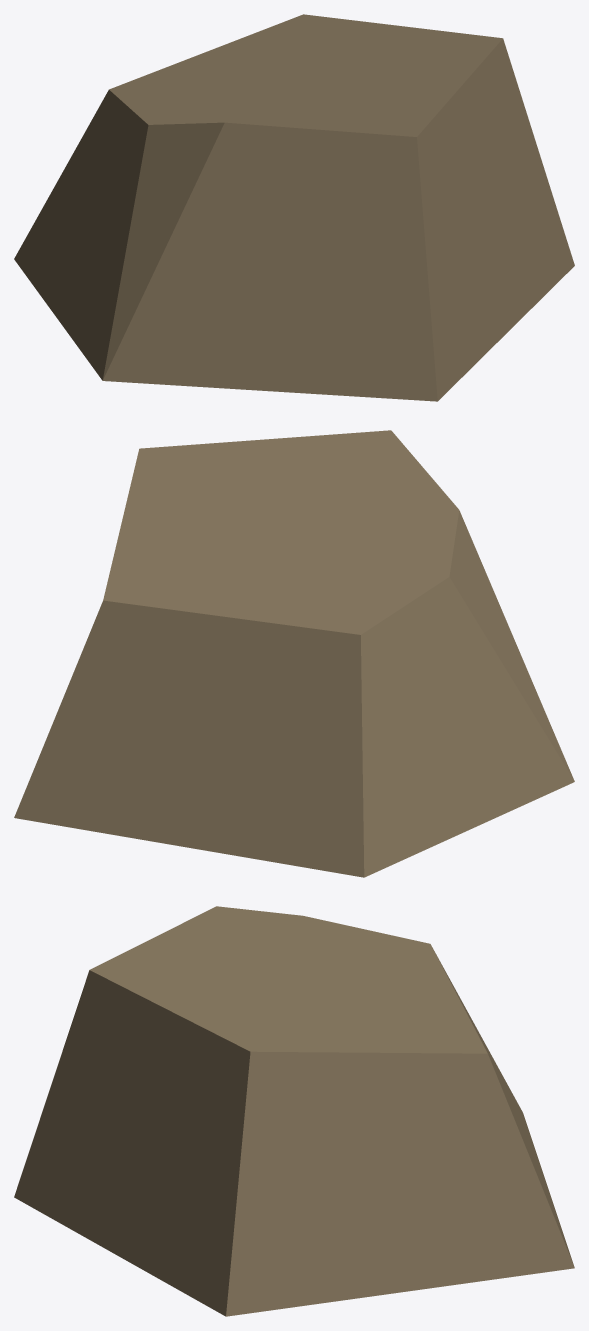
File: TB_D_Env_StoneF_C.FBX
3 renders of one model, top to bottom at view 1: azimuth 30°, elevation 25°; view 2: azimuth 150°, elevation 25°; view 3: azimuth 270°, elevation 25°, orthographic. The views are drawn at different scales.
Parts seen in each view (by area): view 1: TB_D_Env_StoneF_C; view 2: TB_D_Env_StoneF_C; view 3: TB_D_Env_StoneF_C.
Boxes of the visible parts, x1=… form: TB_D_Env_StoneF_C: x1=14, y1=14, x2=574, y2=401; TB_D_Env_StoneF_C: x1=14, y1=430, x2=574, y2=877; TB_D_Env_StoneF_C: x1=14, y1=906, x2=574, y2=1316.
Size of the model in its own units: 0.4834 by 0.228 by 0.4922.
